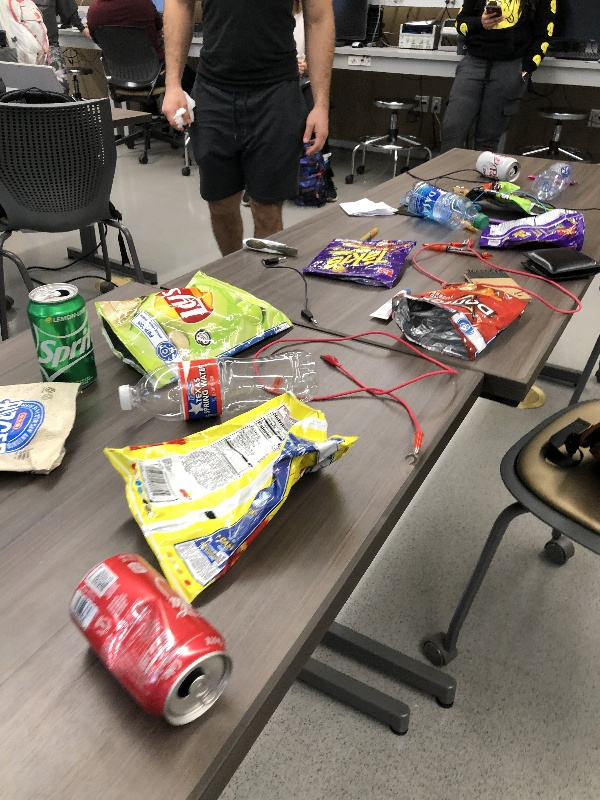bag: (98, 385, 374, 607), (93, 263, 298, 382), (391, 273, 530, 361), (1, 377, 85, 483), (298, 229, 422, 292), (474, 206, 587, 255), (461, 180, 547, 216)
bottle: (112, 346, 328, 420), (402, 179, 491, 229), (535, 159, 575, 203)
can: (62, 551, 234, 735), (20, 281, 105, 389), (475, 148, 524, 183)
